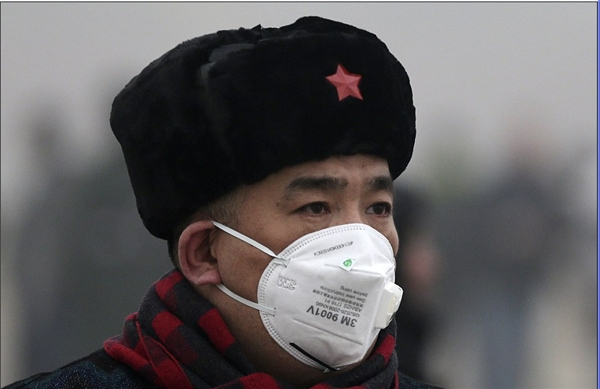mask: (223, 203, 406, 365)
